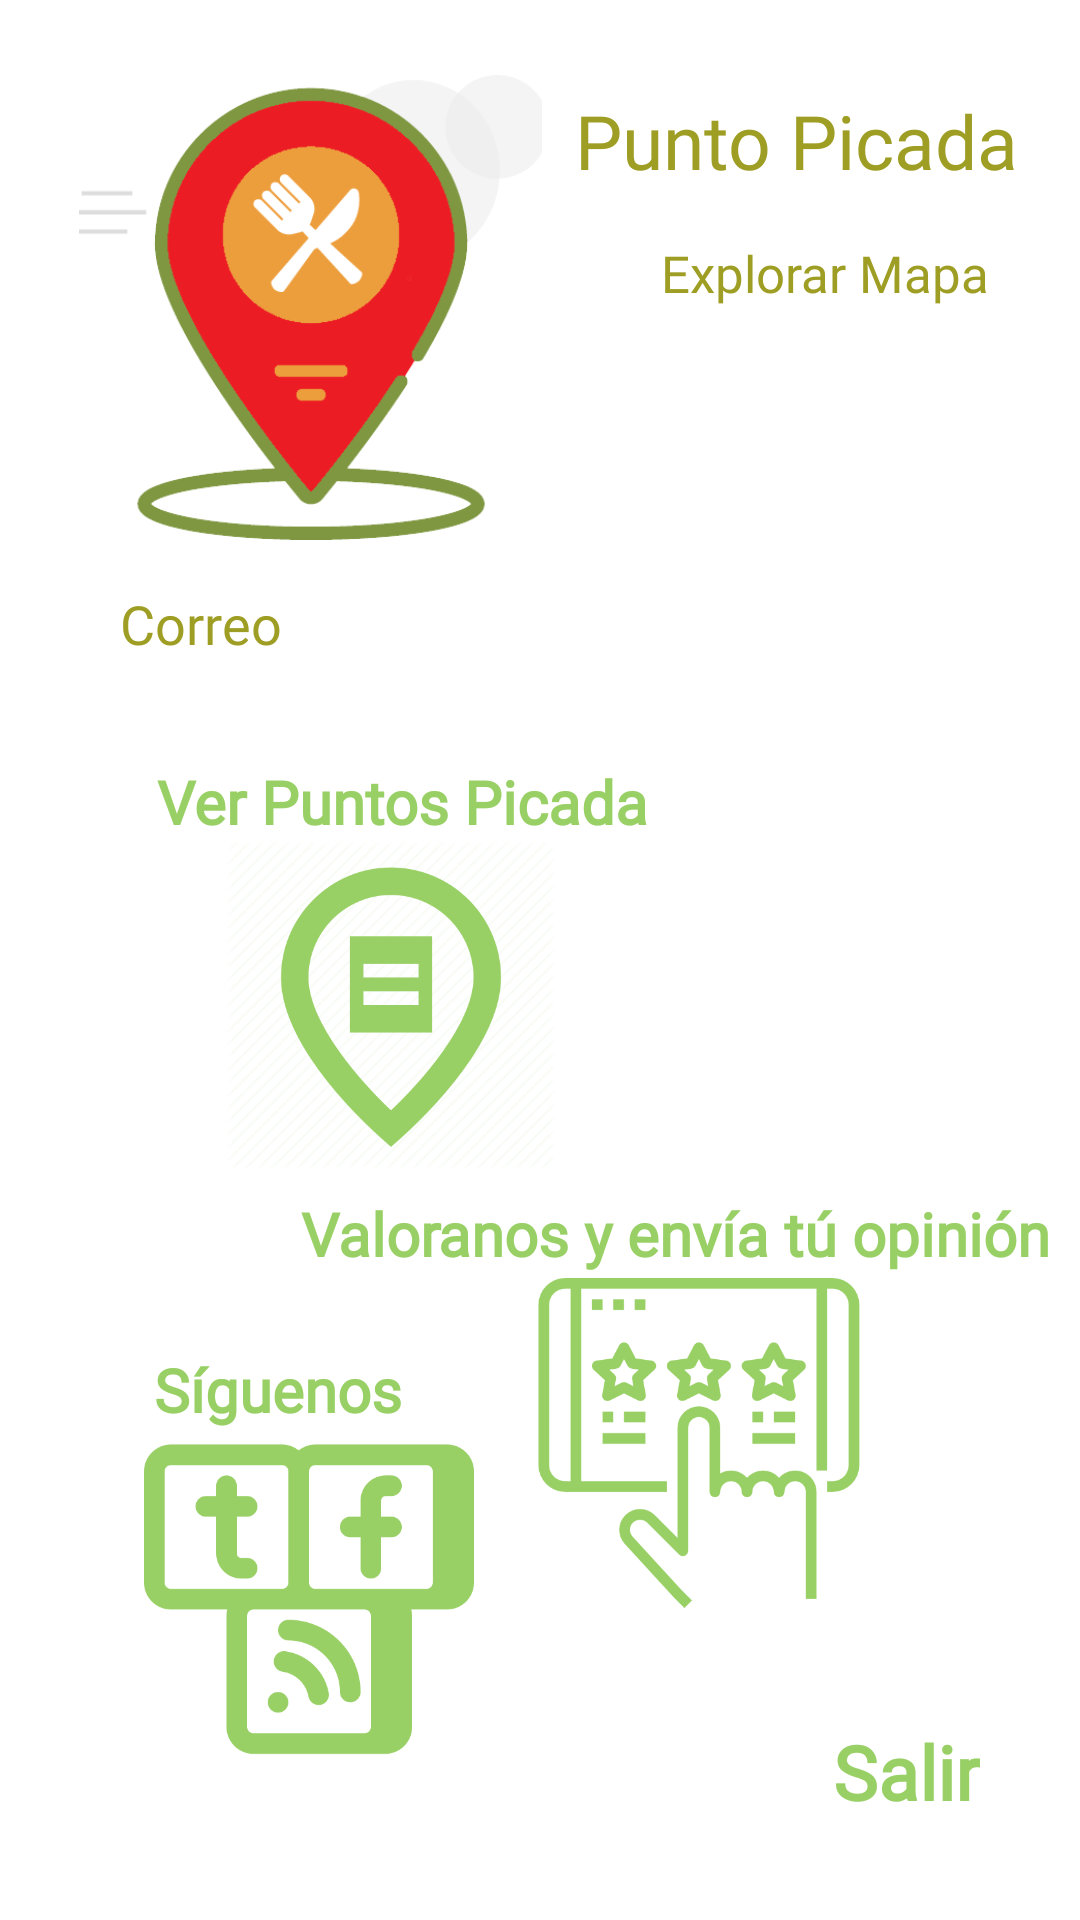

Icon click points for this 1080×1920 phone screenshot, format (x,y):
listalocales: (391,1007)
rating: (699,1443)
